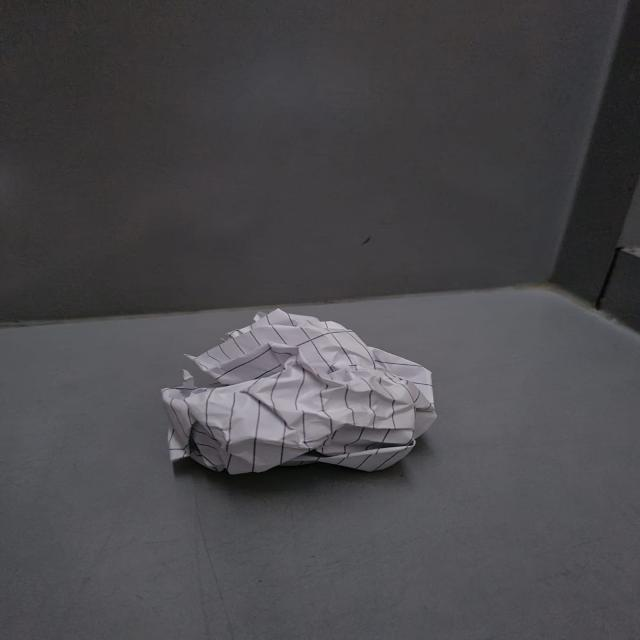Paper: (163, 311, 433, 481)
